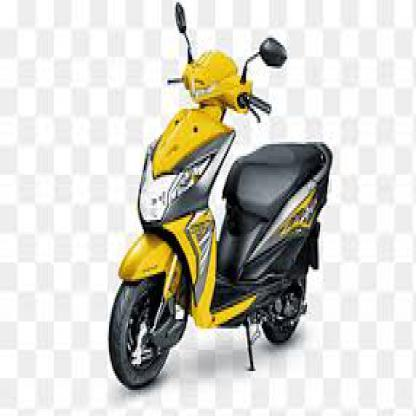Motorcycle: (105, 0, 335, 397)
